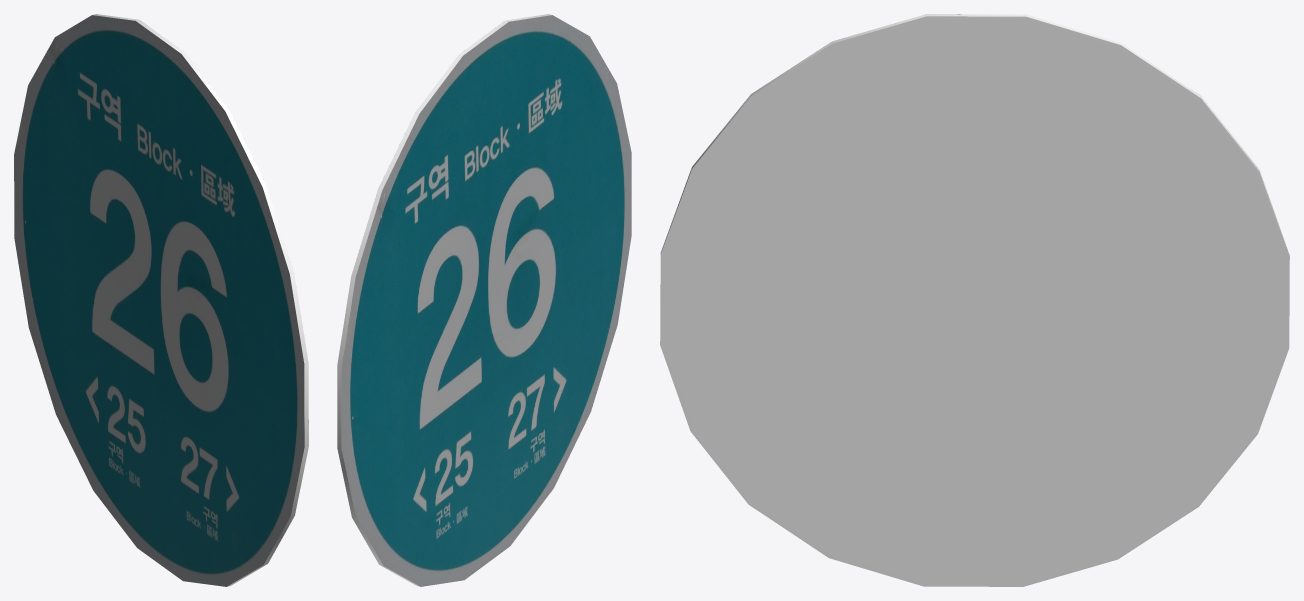
File: SM_010_Seat_2_2.fbx
3 renders of one model, left to right at view 1: azimuth 30°, elevation 25°; view 2: azimuth 150°, elevation 25°; view 3: azimuth 270°, elevation 25°, orthographic. The views are drawn at different scales.
Parts seen in each view (by area): view 1: SM_010_Seat_2_2; view 2: SM_010_Seat_2_2; view 3: SM_010_Seat_2_2.
Boxes of the visible parts, x1,y1,x2,y2 form: SM_010_Seat_2_2: (14,14,308,586); SM_010_Seat_2_2: (337,14,631,586); SM_010_Seat_2_2: (660,14,1289,586).
Bounding box in the file's own units: 0.3879 × 44.73 × 44.73.
Materials: 1 (1 with a texture image).
